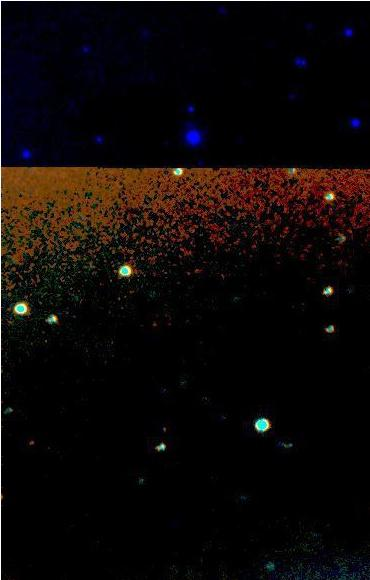star: (16, 428, 46, 458)
